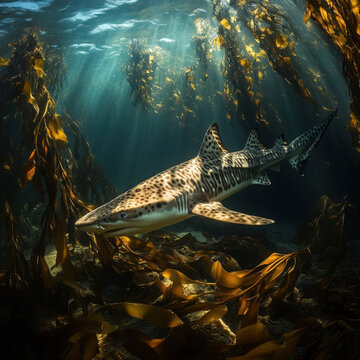Leopard Shark: (22, 96, 360, 273)
